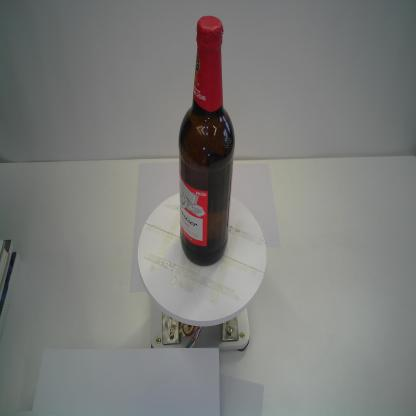Alcohol: (177, 14, 236, 268)
